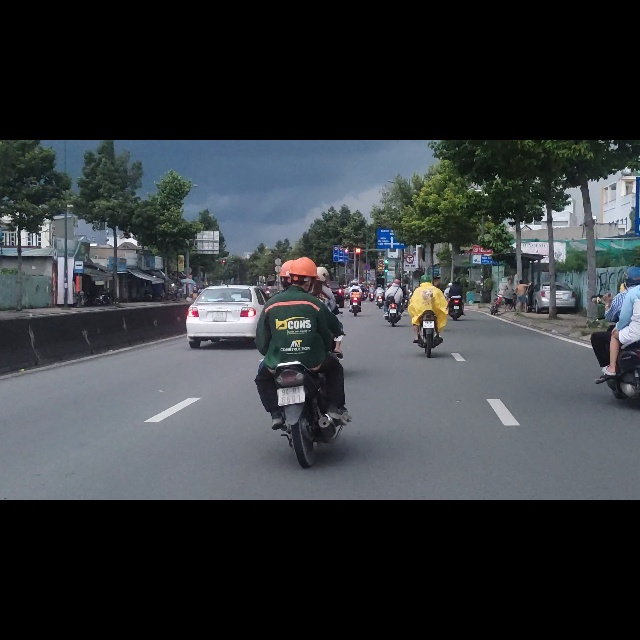bien_cam: (333, 196, 349, 218), (406, 203, 414, 217)
